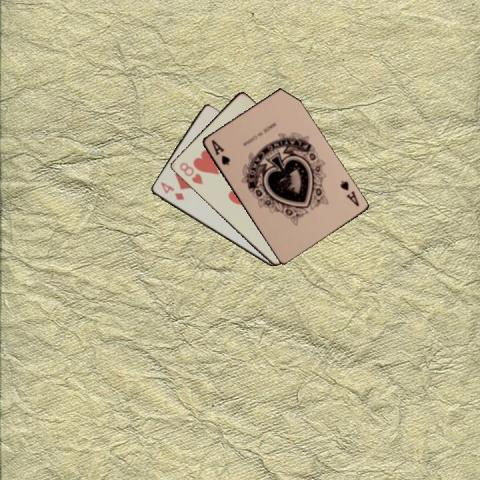4d: (158, 179, 186, 202)
8h: (176, 159, 204, 186)
As: (337, 177, 360, 208), (208, 136, 231, 166)
